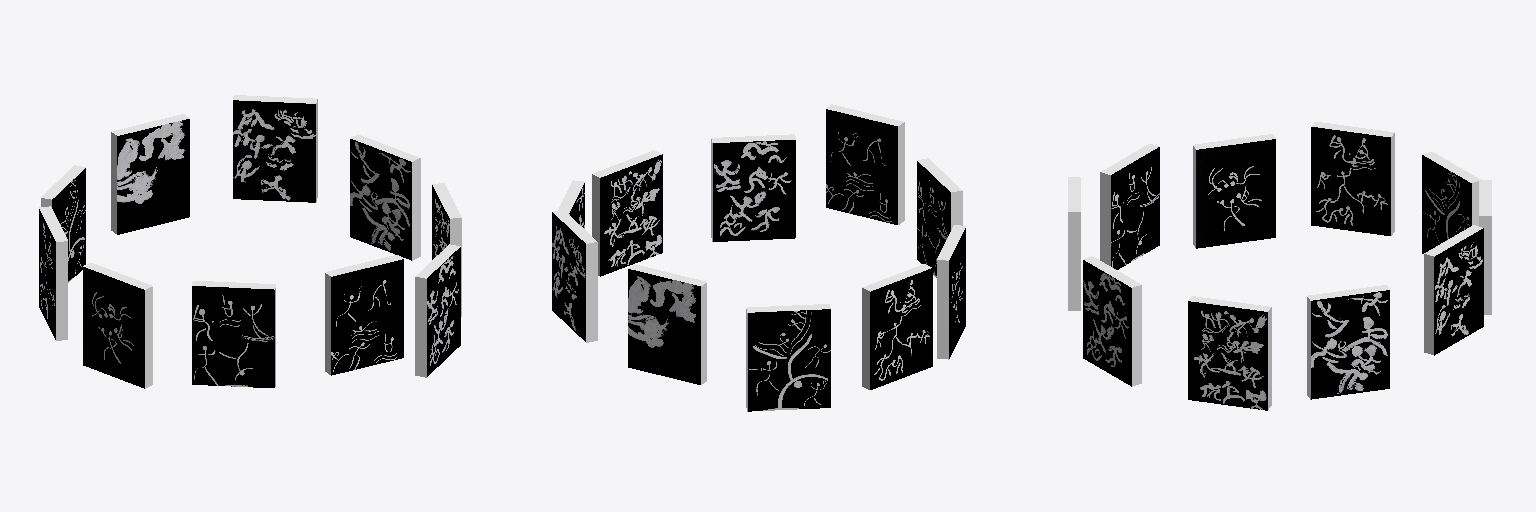
3 views of the same model, side by side, from view 1: azimuth 30°, elevation 25°; view 2: azimuth 150°, elevation 25°; view 3: azimuth 270°, elevation 25° (orthographic).
Visible parts, largest first — view 1: Cube_2, Cube_7, Cube_6, Cube_1, Cube_3, Cube_8, Cube_5, Cube_9, Cube_10, Cube_4; view 2: Cube_5, Cube_10, Cube_1, Cube_6, Cube_9, Cube_4, Cube_2, Cube_7, Cube_8, Cube_3; view 3: Cube_9, Cube_4, Cube_3, Cube_8, Cube_2, Cube_5, Cube_7, Cube_10, Cube_6, Cube_1.
Boxes of the visible parts, <box> form: Cube_2: <box>233,95,317,202</box>; Cube_7: <box>192,281,275,387</box>; Cube_6: <box>325,255,403,375</box>; Cube_1: <box>111,114,189,234</box>; Cube_3: <box>350,134,420,260</box>; Cube_8: <box>83,263,152,388</box>; Cube_5: <box>415,244,460,377</box>; Cube_9: <box>39,206,67,340</box>; Cube_10: <box>41,165,85,282</box>; Cube_4: <box>432,183,461,316</box>; Cube_5: <box>711,134,795,241</box>; Cube_10: <box>746,304,830,411</box>; Cube_1: <box>628,264,706,384</box>; Cube_6: <box>826,104,904,224</box>; Cube_9: <box>862,264,932,389</box>; Cube_4: <box>592,150,662,276</box>; Cube_2: <box>552,209,597,342</box>; Cube_7: <box>917,158,962,277</box>; Cube_8: <box>937,225,965,359</box>; Cube_3: <box>558,180,584,228</box>; Cube_9: <box>1311,122,1394,235</box>; Cube_4: <box>1188,296,1271,410</box>; Cube_3: <box>1307,285,1389,399</box>; Cube_8: <box>1193,134,1275,248</box>; Cube_2: <box>1424,225,1483,355</box>; Cube_5: <box>1083,256,1141,386</box>; Cube_7: <box>1100,144,1159,269</box>; Cube_10: <box>1422,152,1480,253</box>; Cube_6: <box>1068,177,1080,310</box>; Cube_1: <box>1479,180,1491,314</box>.
Bounding box in the file's own units: 1505 × 528 × 1513.
Materials: 11 (10 with a texture image).